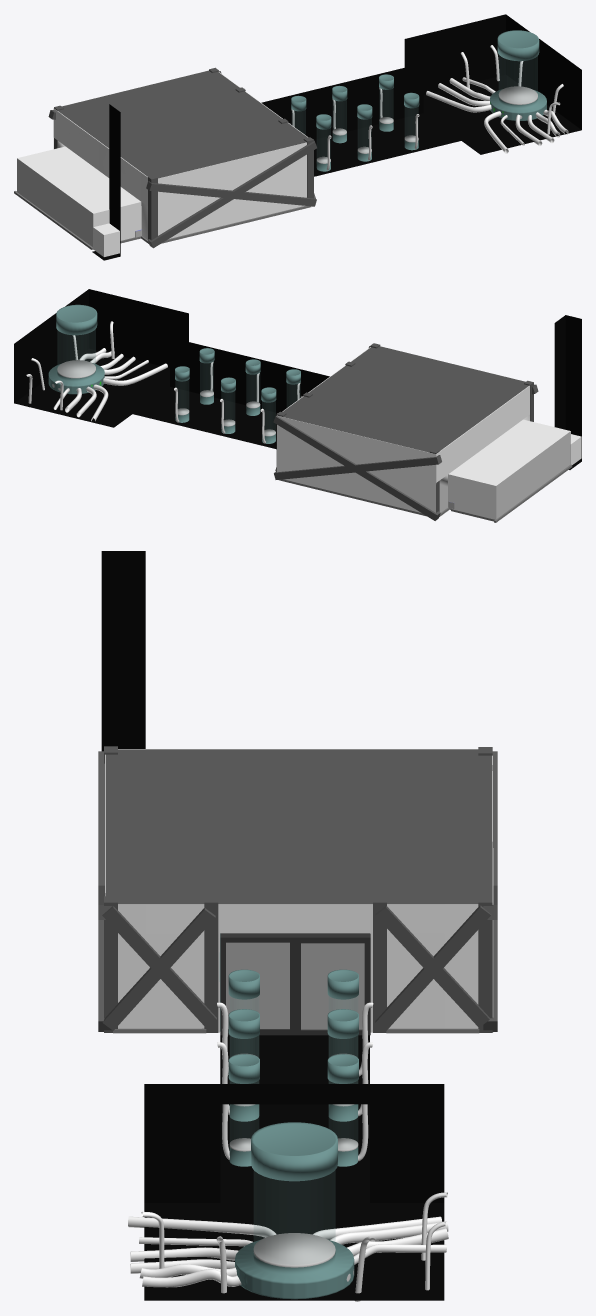
File: Lvl3.glb
The picture shows the model from 3 angles, top to bottom: view 1: azimuth 30°, elevation 25°; view 2: azimuth 150°, elevation 25°; view 3: azimuth 270°, elevation 25°; orthographic projection. The views are drawn at different scales.
Parts seen in each view (by area): view 1: labBase-col, Supports-col, MasaTube-col, ElevatorShaft-col, Tube, Lift-col, Zocalos.002, MasaTube-col.004, MasaTube-col.006, MasaTube-col.005, MasaTube-col.001, MasaTube-col.003 (+3 smaller); view 2: labBase-col, Supports-col, ElevatorShaft-col, MasaTube-col, Tube, MasaTube-col.003, MasaTube-col.005, Zocalos.001, MasaTube-col.002, MasaTube-col.006, MasaTube-col.004, Tube1.006 (+6 smaller); view 3: labBase-col, Supports-col, MasaTube-col, ElevatorShaft-col, MotherDoor2-col, MotherDoor-col, Tube, Tube1.006, MasaTube-col.005, MasaTube-col.006, MasaTube-col.003, MasaTube-col.004 (+5 smaller).
Part boxes in pixels (x1=…): labBase-col: x1=17, y1=14, x2=581, y2=246; Supports-col: x1=48, y1=67, x2=316, y2=248; MasaTube-col: x1=490, y1=30, x2=546, y2=120; ElevatorShaft-col: x1=92, y1=104, x2=120, y2=260; Tube: x1=499, y1=56, x2=537, y2=93; Lift-col: x1=93, y1=223, x2=119, y2=256; Zocalos.002: x1=161, y1=206, x2=311, y2=243; MasaTube-col.004: x1=332, y1=85, x2=347, y2=143; MasaTube-col.006: x1=379, y1=74, x2=393, y2=131; MasaTube-col.005: x1=404, y1=92, x2=419, y2=150; MasaTube-col.001: x1=316, y1=114, x2=331, y2=171; MasaTube-col.003: x1=357, y1=104, x2=372, y2=161; labBase-col: x1=14, y1=289, x2=570, y2=519; Supports-col: x1=273, y1=343, x2=538, y2=520; ElevatorShaft-col: x1=554, y1=315, x2=581, y2=469; MasaTube-col: x1=48, y1=304, x2=104, y2=394; Tube: x1=58, y1=330, x2=95, y2=365; MasaTube-col.003: x1=245, y1=359, x2=260, y2=415; MasaTube-col.005: x1=199, y1=348, x2=214, y2=404; Zocalos.001: x1=279, y1=479, x2=426, y2=516; MasaTube-col.002: x1=261, y1=387, x2=276, y2=443; MasaTube-col.006: x1=175, y1=366, x2=189, y2=422; MasaTube-col.004: x1=221, y1=377, x2=235, y2=433; Tube1.006: x1=103, y1=363, x2=167, y2=385; labBase-col: x1=105, y1=749, x2=493, y2=1300; Supports-col: x1=98, y1=746, x2=497, y2=1032; MasaTube-col: x1=235, y1=1122, x2=354, y2=1299; ElevatorShaft-col: x1=101, y1=551, x2=145, y2=751; MotherDoor2-col: x1=295, y1=933, x2=370, y2=1035; MotherDoor-col: x1=220, y1=933, x2=295, y2=1035; Tube: x1=254, y1=1171, x2=334, y2=1245; Tube1.006: x1=128, y1=1216, x2=276, y2=1237; MasaTube-col.005: x1=228, y1=1054, x2=259, y2=1166; MasaTube-col.006: x1=327, y1=1054, x2=358, y2=1166; MasaTube-col.003: x1=228, y1=1009, x2=259, y2=1121; MasaTube-col.004: x1=327, y1=1009, x2=358, y2=1121.
Bounding box in the file's own units: 116 × 32.77 × 41.21.
